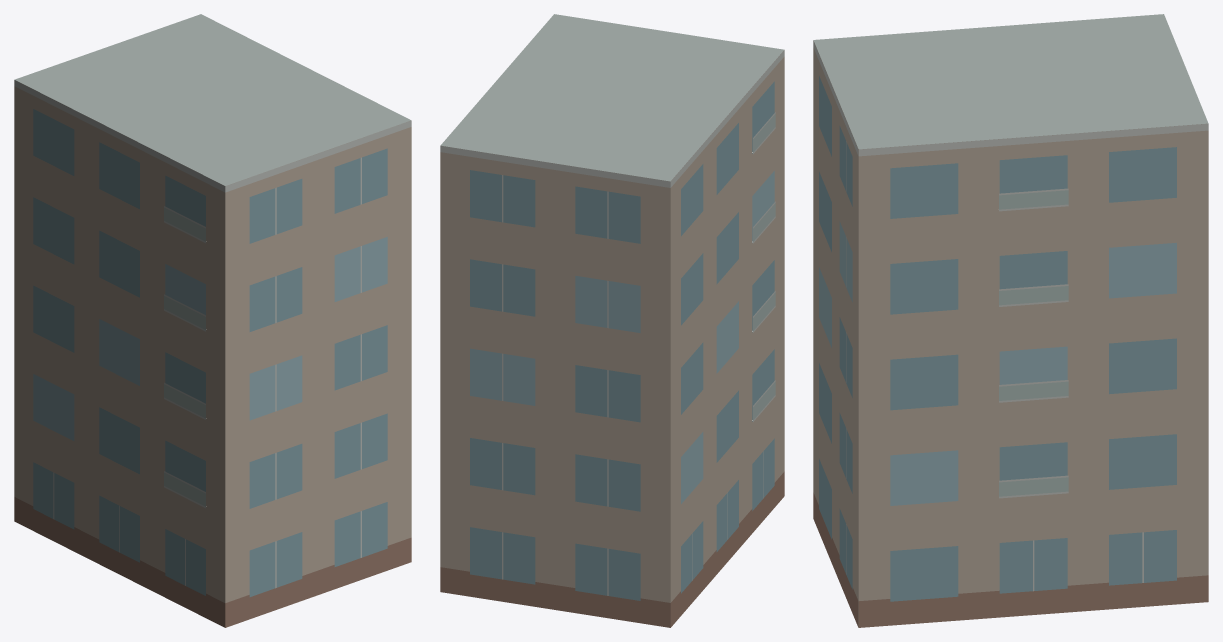
File: survey-upis-32946780.glb
3 renders of one model, left to right at view 1: azimuth 30°, elevation 25°; view 2: azimuth 150°, elevation 25°; view 3: azimuth 270°, elevation 25°, orthographic. The views are drawn at different scales.
Parts seen in each view (by area): view 1: survey-upis-32946780.tmp; view 2: survey-upis-32946780.tmp; view 3: survey-upis-32946780.tmp.
Boxes of the visible parts, x1,y1,x2,y2 form: survey-upis-32946780.tmp: (14, 14, 411, 627); survey-upis-32946780.tmp: (440, 14, 784, 627); survey-upis-32946780.tmp: (813, 14, 1208, 627).
Bounding box in the file's own units: 10.15 × 16.7 × 12.51.
